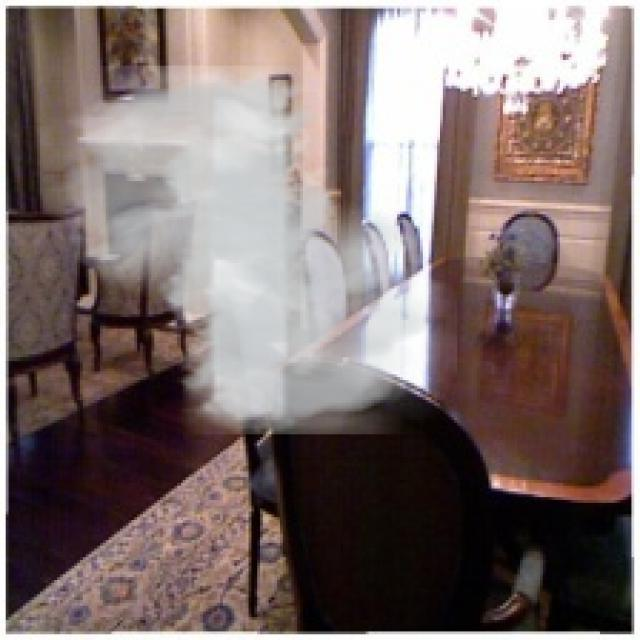Smoke: (40, 66, 457, 434)
